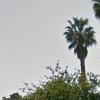Palm tree: (59, 13, 100, 78)
